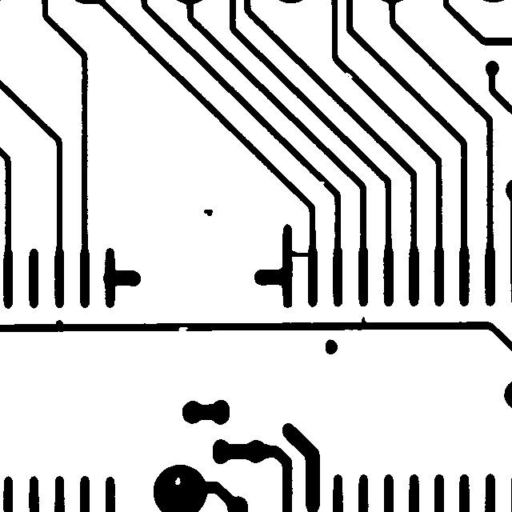copper: (196, 202, 220, 223)
mousebite: (170, 319, 195, 340), (337, 65, 360, 86), (310, 174, 332, 195)
pin-hole: (167, 470, 188, 492)
short: (278, 242, 319, 264)
spur: (48, 312, 70, 334), (354, 309, 374, 330)
